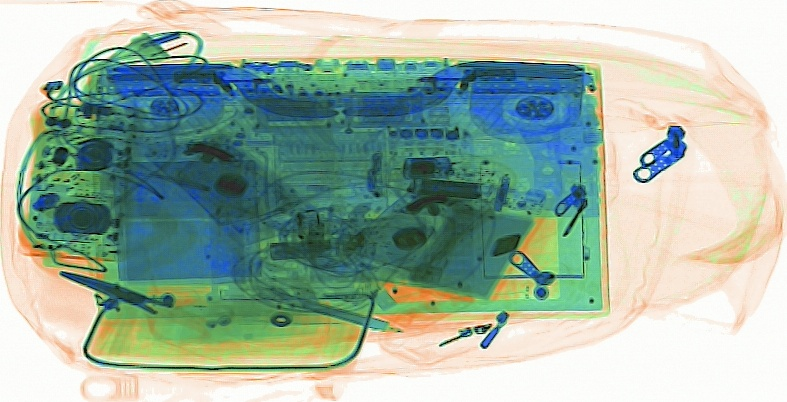scissors: (56, 268, 237, 347)
